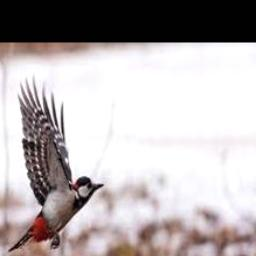Woodpecker: (8, 74, 104, 254)
